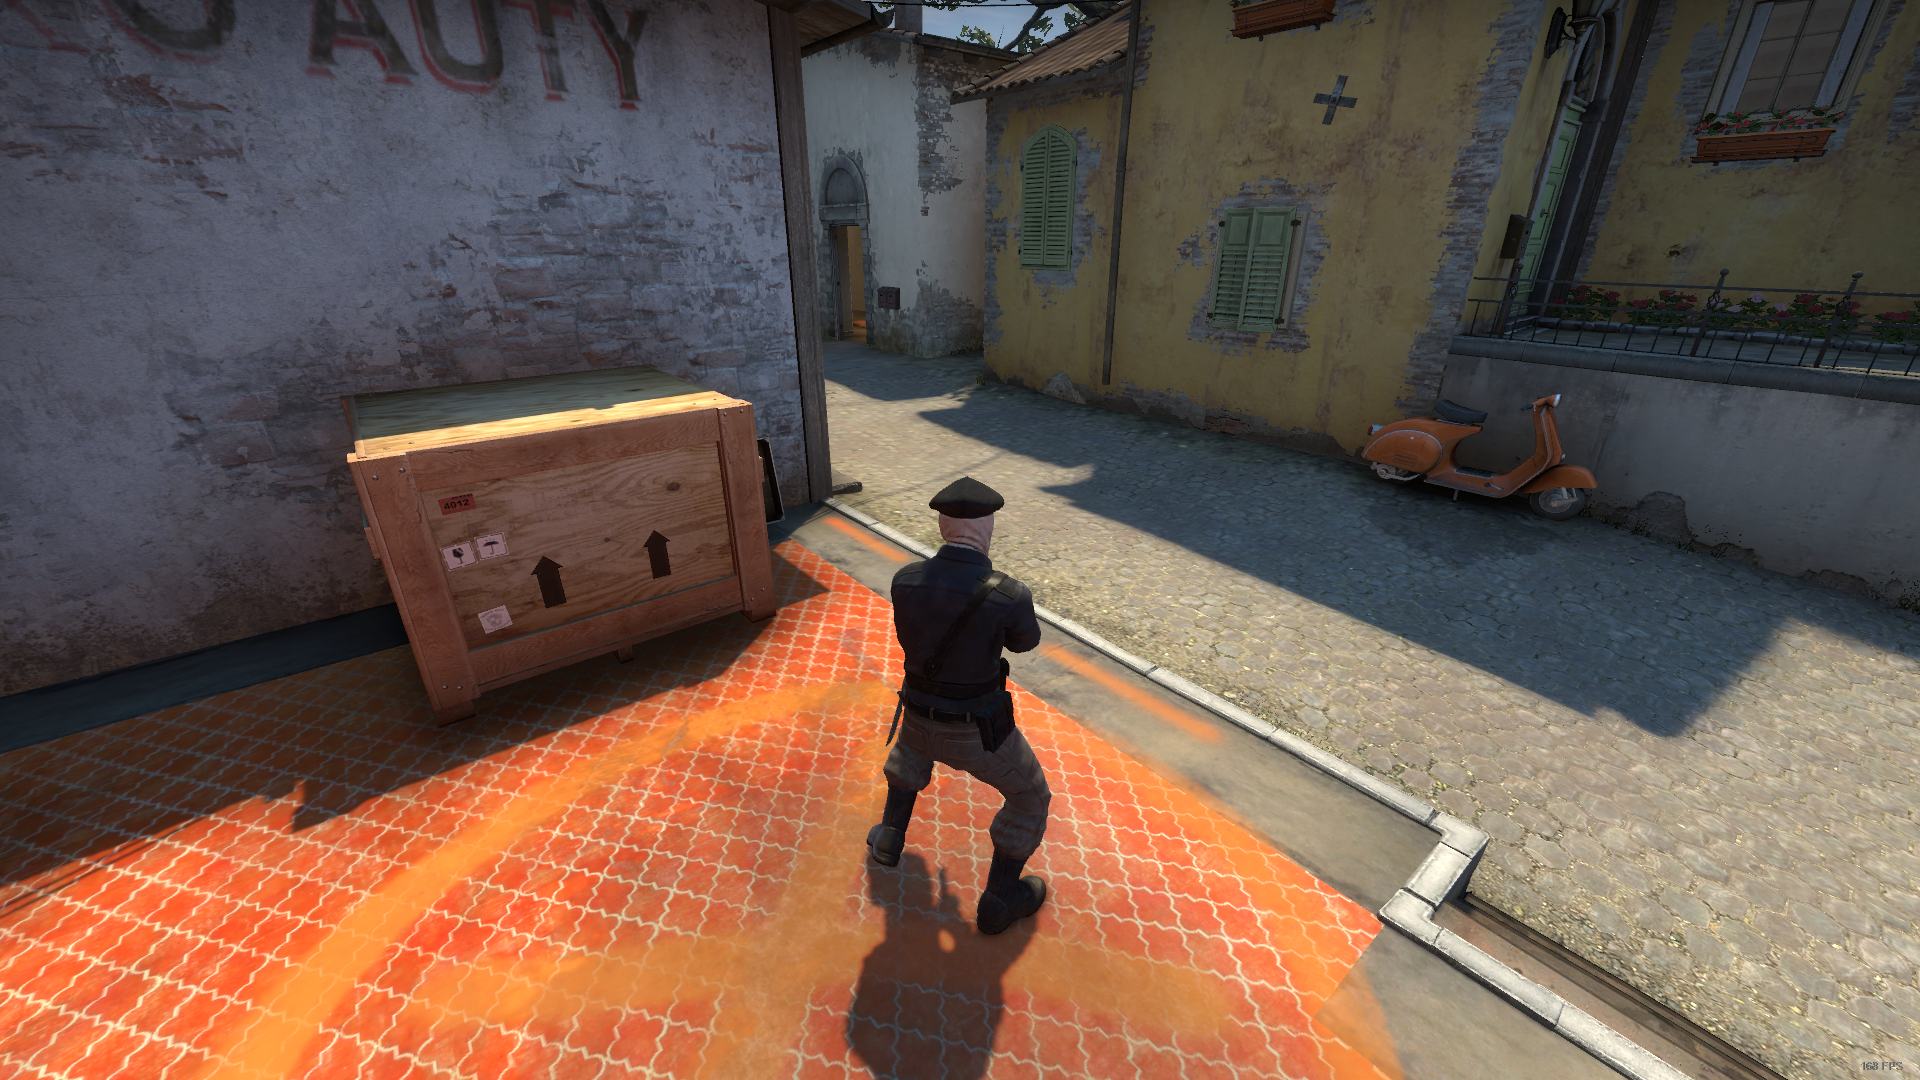t: (864, 475, 1064, 935)
